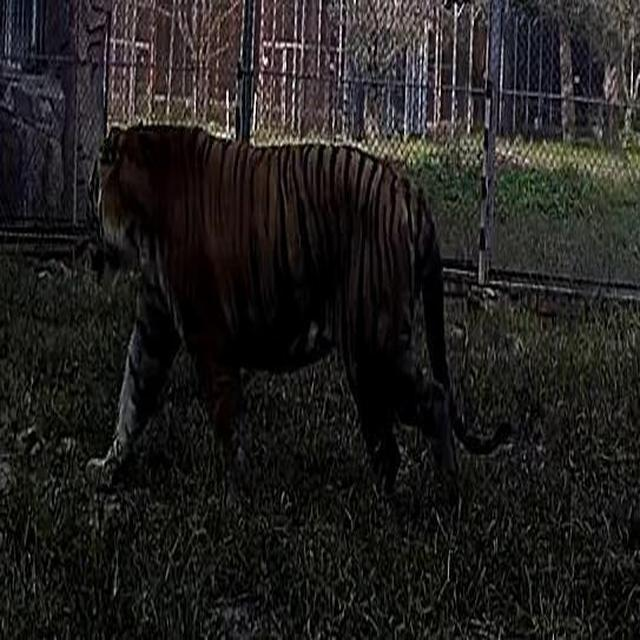tiger: (66, 107, 516, 519)
